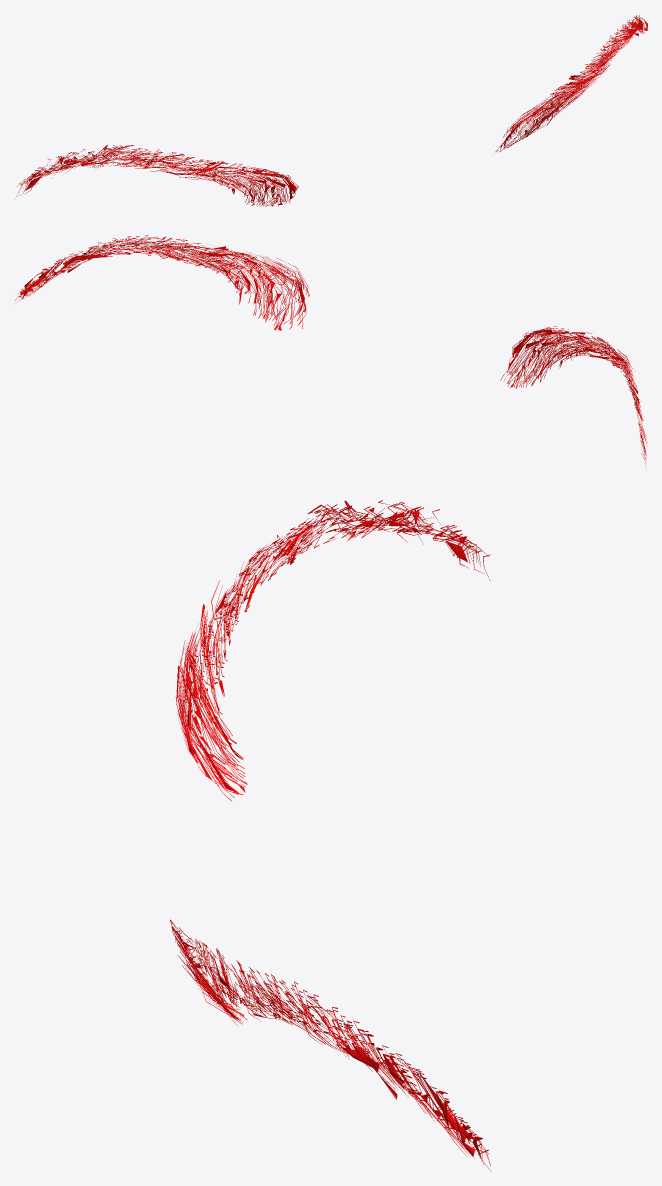
File: mindfront_eyebrows_02_F.glb
3 renders of one model, top to bottom at view 1: azimuth 30°, elevation 25°; view 2: azimuth 150°, elevation 25°; view 3: azimuth 270°, elevation 25°, orthographic. The views are drawn at different scales.
Bounding box in the file's own units: 0.1214 × 0.0146 × 0.0268.
Materials: 1 (1 with a texture image).
